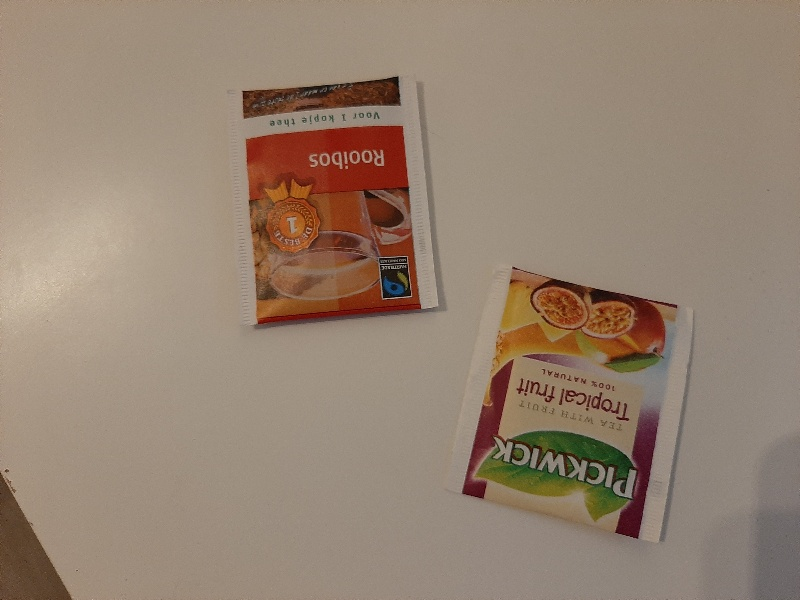rooibos: (222, 70, 443, 331)
tropisch: (441, 263, 715, 550)
